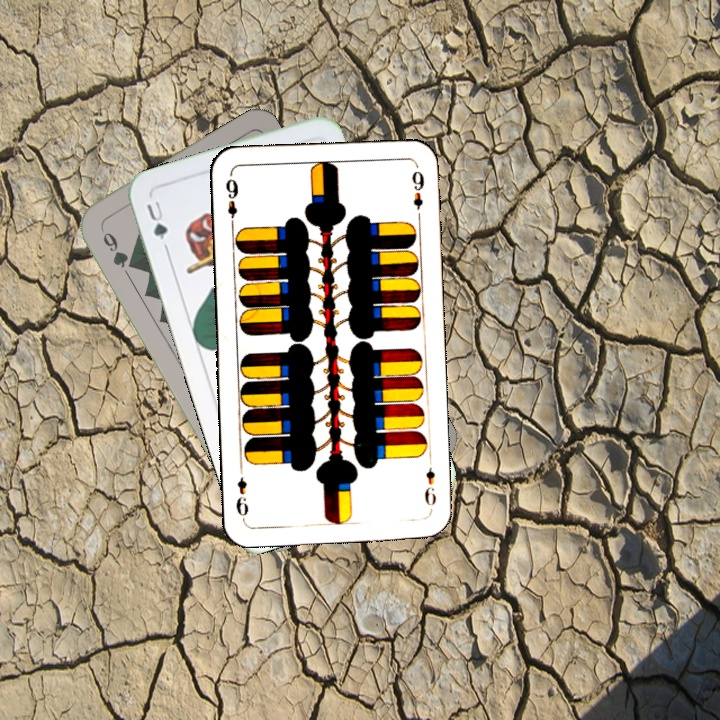E9: (221, 175, 240, 231), (420, 463, 439, 513)
G9: (96, 223, 138, 272)
GU: (142, 196, 171, 252)
